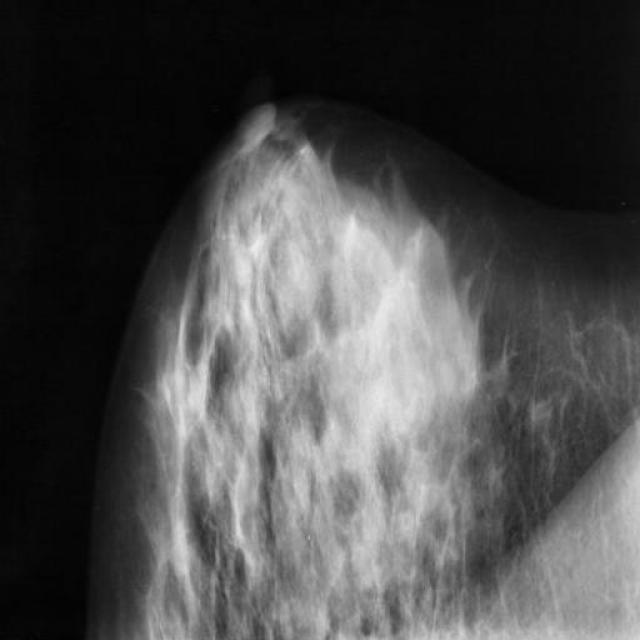cancer: (152, 329, 218, 486)
